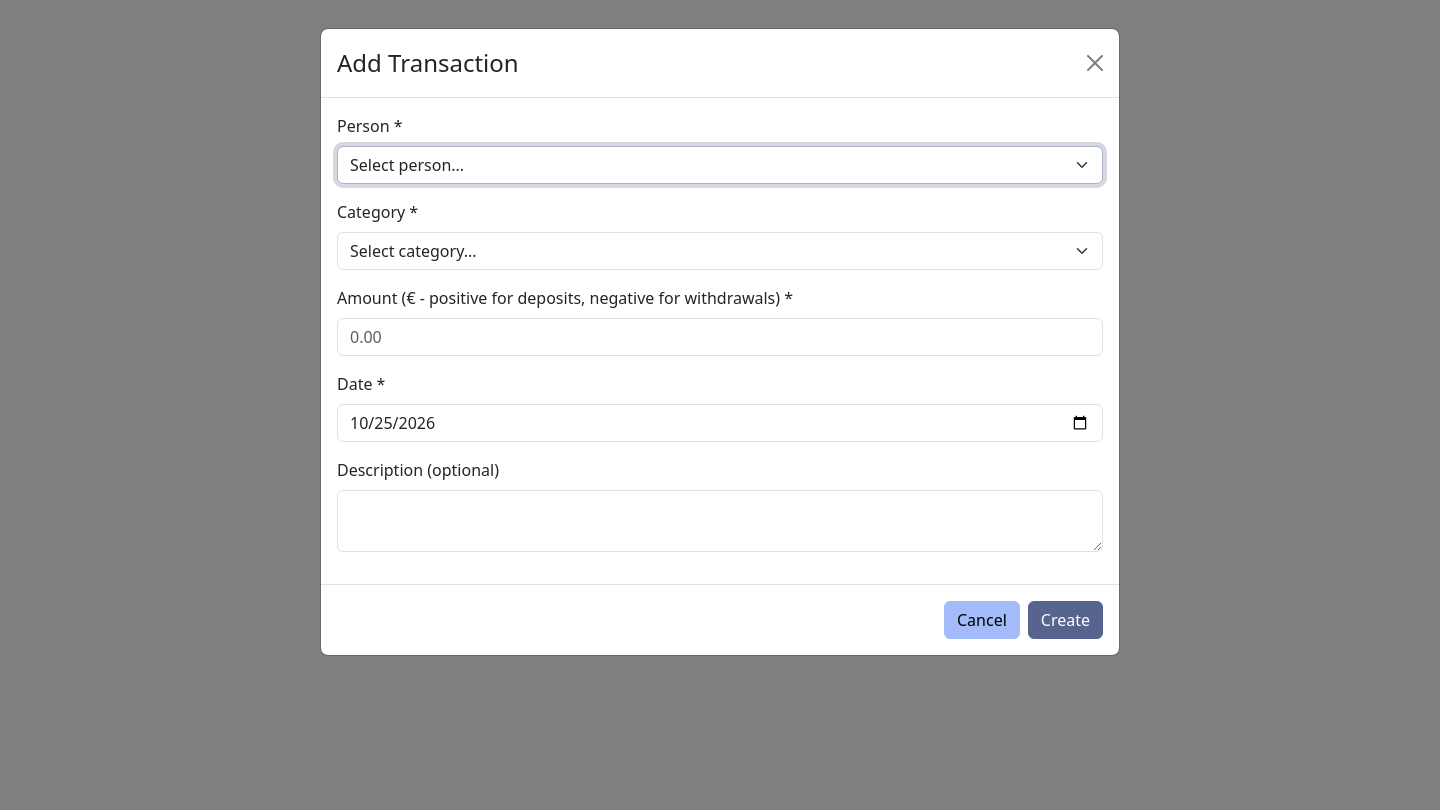
it: TransactionFormModal › rejects a zero amount
Step 1. Select "Jess" in the dropdown labelled "Person *" → point(720, 165), box x1=337 y1=146 x2=1103 y2=184
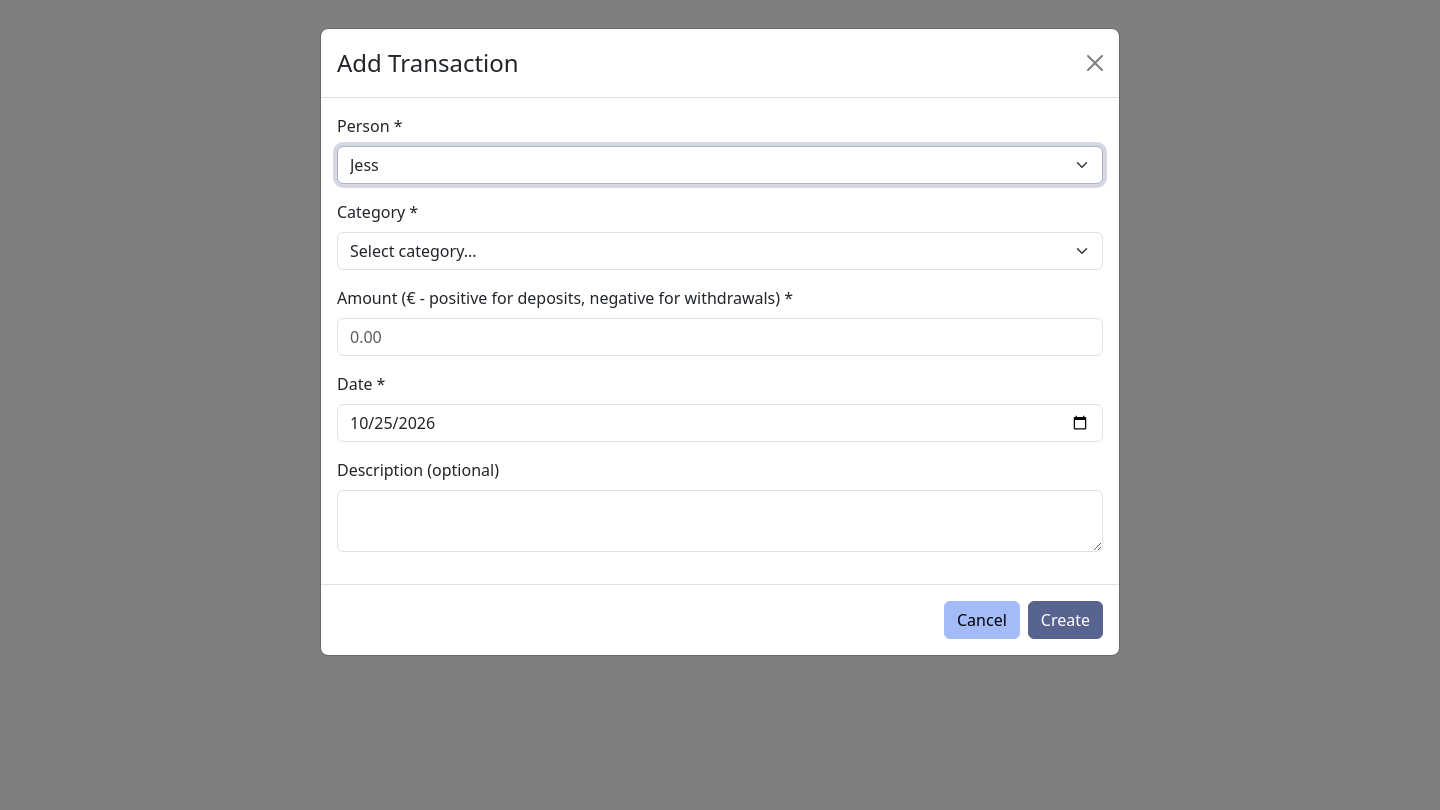
Step 2. Select "Groceries" in the dropdown labelled "Category *" → point(720, 251), box x1=337 y1=232 x2=1103 y2=270
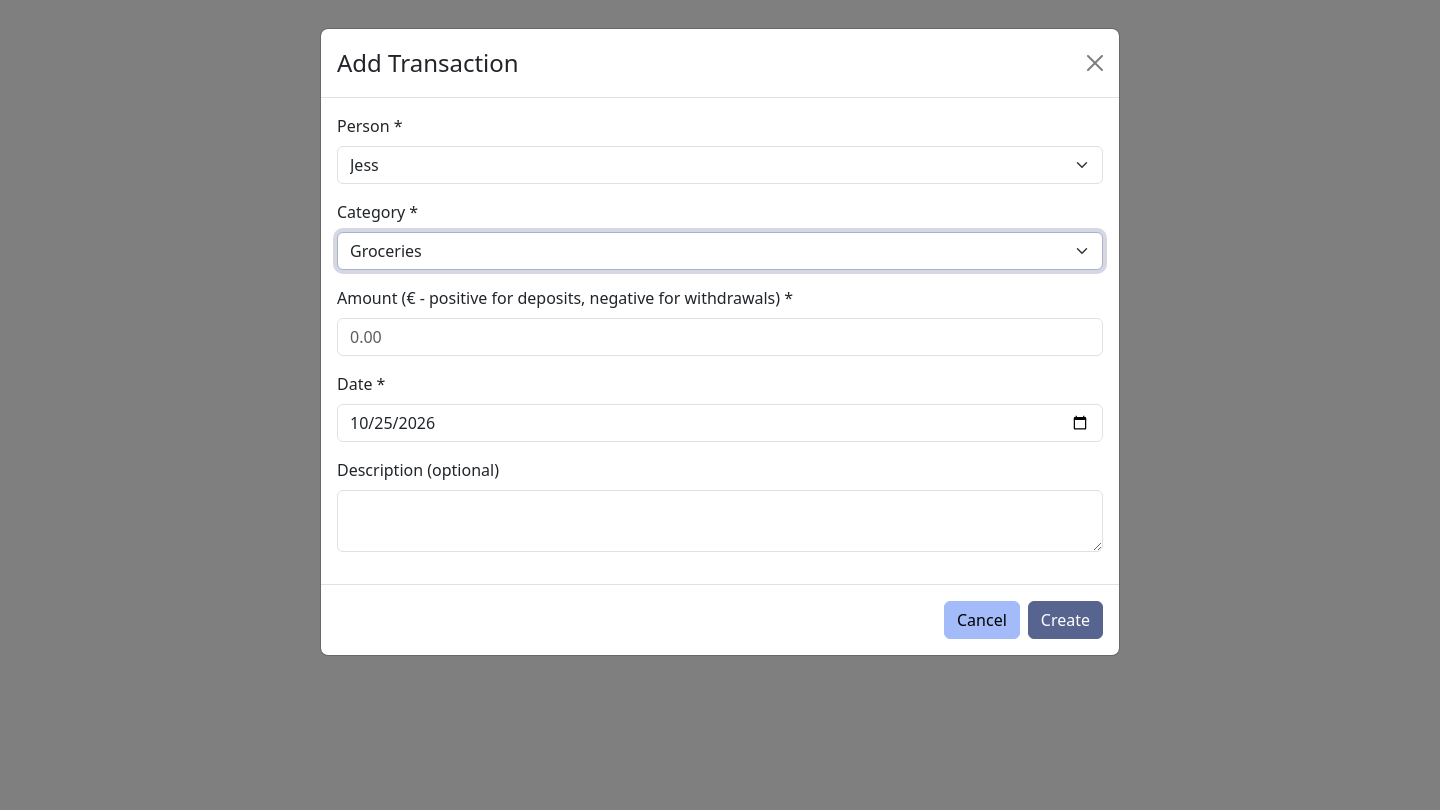
Step 3. Type "0" into the number field labelled "Amount" → point(720, 337), box x1=337 y1=318 x2=1103 y2=356
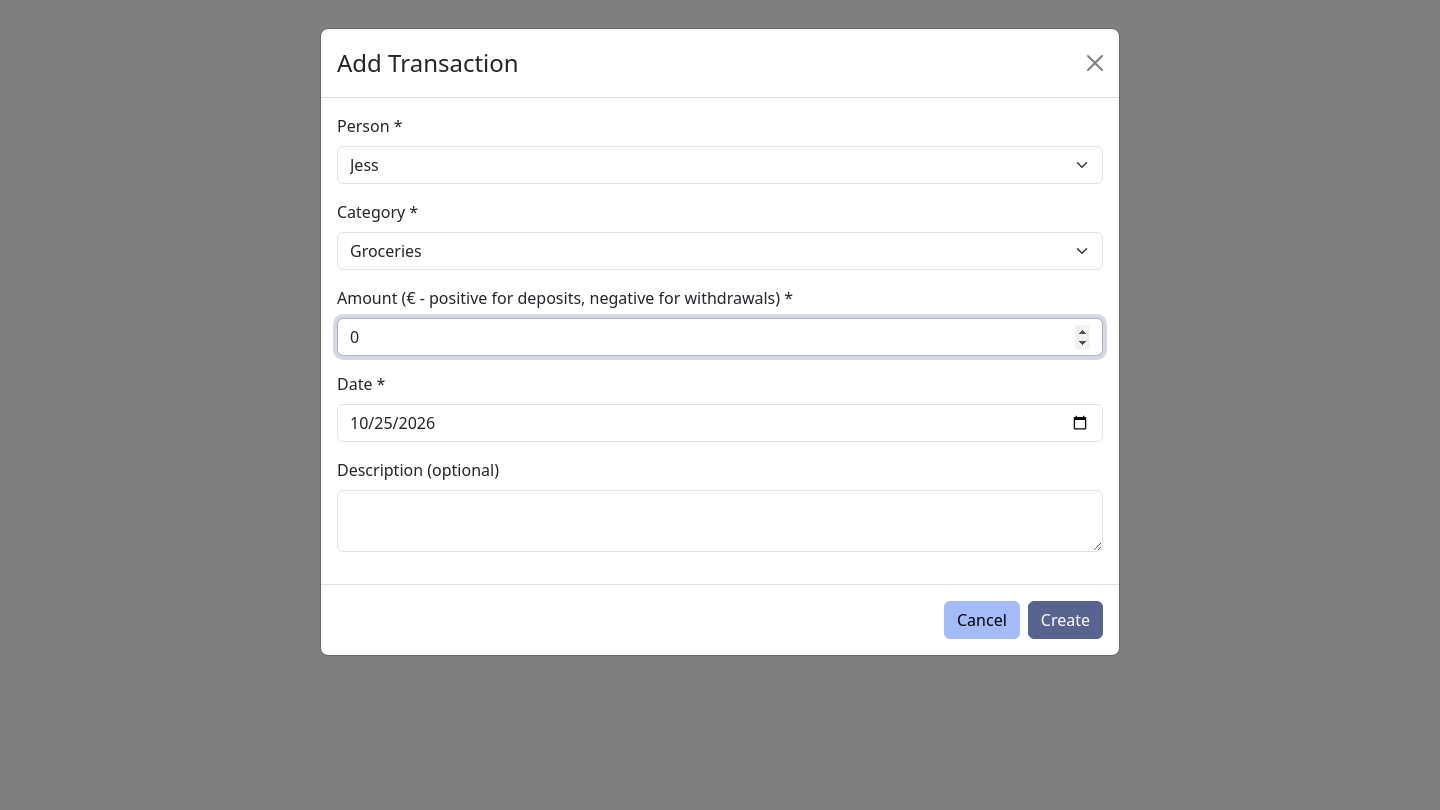
Step 4. Click the button "Create" → point(1065, 620), box x1=1028 y1=601 x2=1103 y2=639
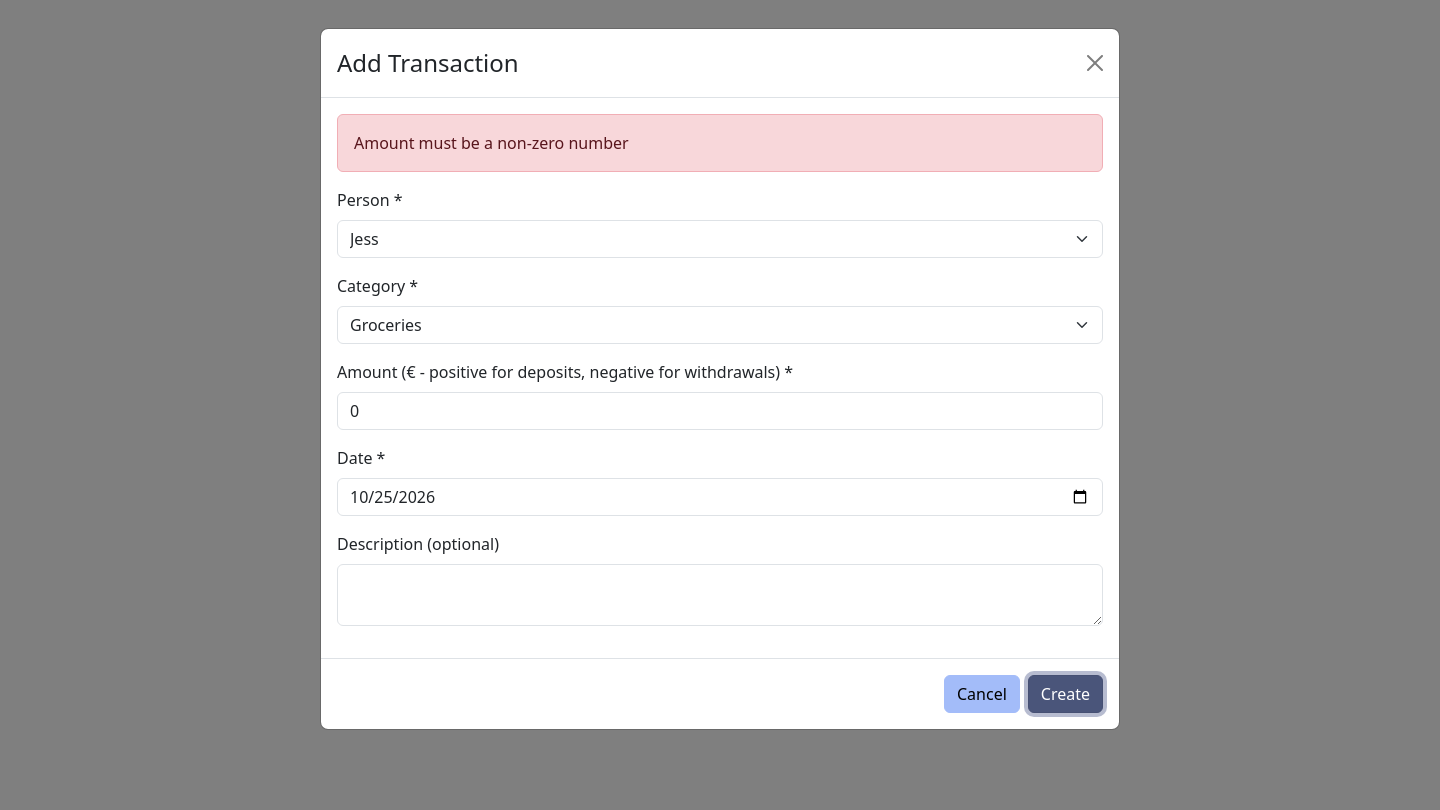
expect the text "Amount must be a non-zero number" is shown: met, box x1=337 y1=114 x2=1103 y2=172
